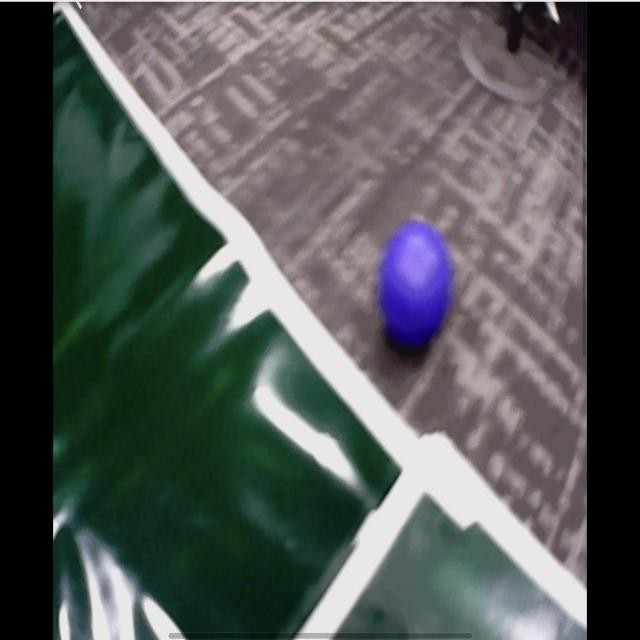ball: (380, 222, 452, 348)
